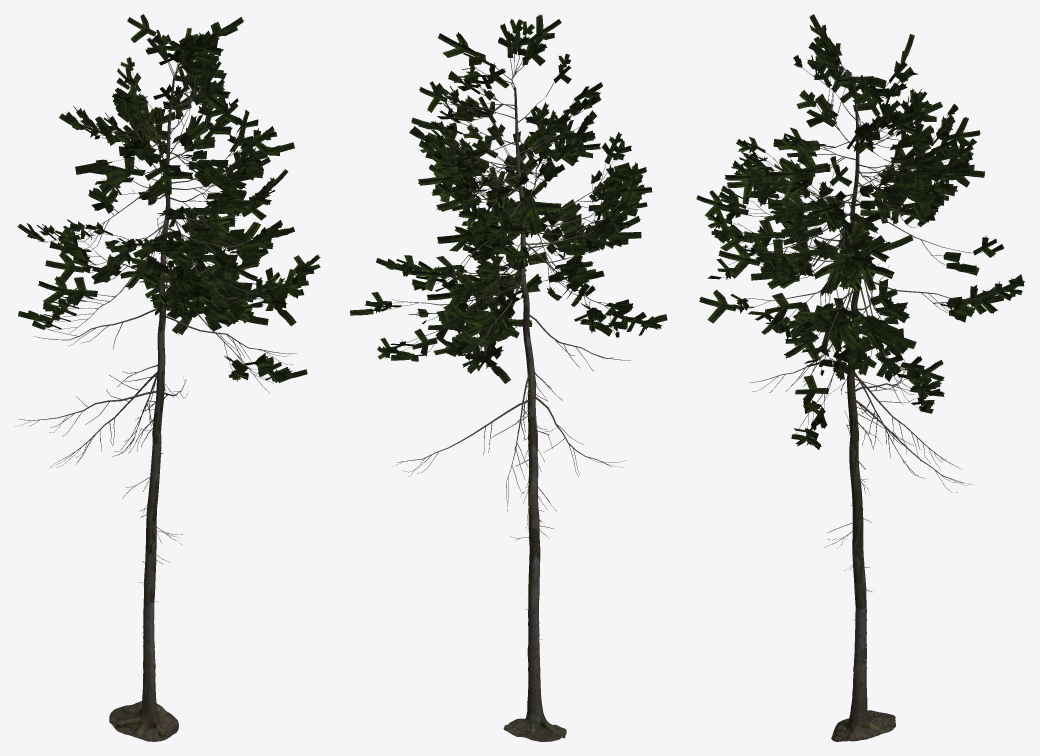
File: fir-c-lod1.glb
The picture shows the model from 3 angles, left to right: view 1: azimuth 30°, elevation 25°; view 2: azimuth 150°, elevation 25°; view 3: azimuth 270°, elevation 25°; orthographic projection. The views are drawn at different scales.
Parts seen in each view (by area): view 1: fir_c_lod1; view 2: fir_c_lod1; view 3: fir_c_lod1.
Boxes of the visible parts, x1,y1,x2,y2 form: fir_c_lod1: (15, 14, 320, 741); fir_c_lod1: (350, 14, 667, 741); fir_c_lod1: (696, 14, 1024, 741).
Size of the model in its own units: 6.35 by 14.55 by 6.01.
4 materials, 4 textured.
